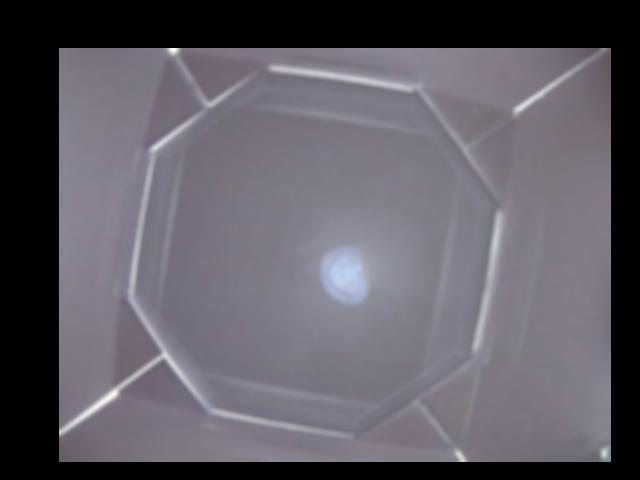Pebble: (322, 246, 365, 301)
